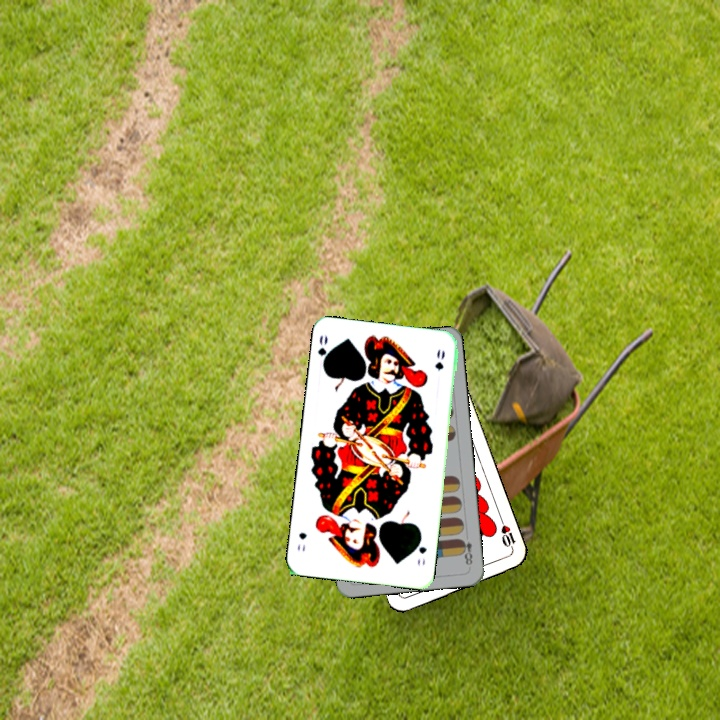E8: (457, 535, 475, 568)
GO: (313, 331, 334, 372), (412, 532, 429, 569)
H10: (497, 515, 518, 554)
